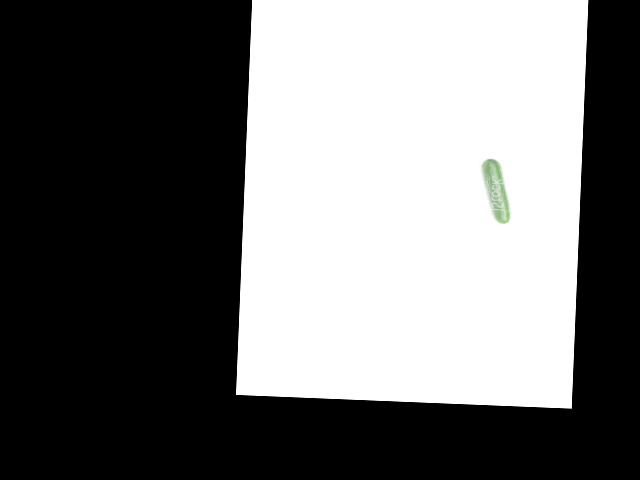cucumber: (479, 157, 512, 224)
